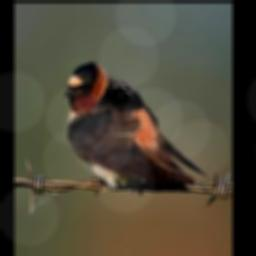Swallow: (62, 58, 209, 194)
